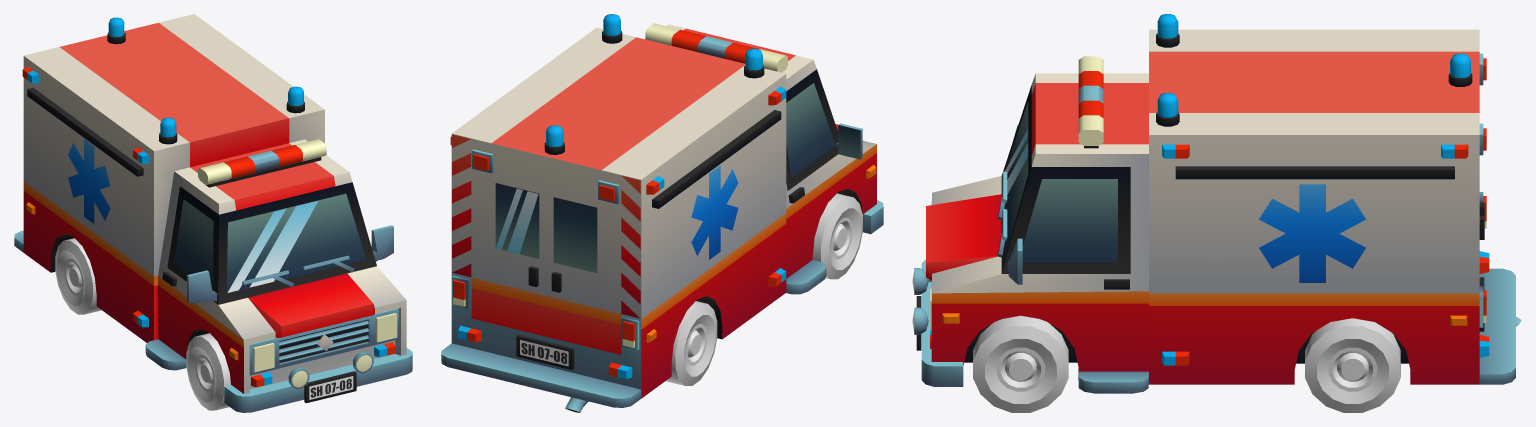
3 views of the same model, side by side, from view 1: azimuth 30°, elevation 25°; view 2: azimuth 150°, elevation 25°; view 3: azimuth 270°, elevation 25° (orthographic). The views are drawn at different scales.
Visible parts, largest first — view 1: SHTV_Model_Car_Ambulance_SHTV_Material_Cars_Red_0, SHTV_Model_Wheel_Ambulance_FR_SHTV_Material_Cars_Gray_0, SHTV_Model_Wheel_Ambulance_BR_SHTV_Material_Cars_Gray_0; view 2: SHTV_Model_Car_Ambulance_SHTV_Material_Cars_Red_0, SHTV_Model_Wheel_Ambulance_FR_SHTV_Material_Cars_Gray_0, SHTV_Model_Wheel_Ambulance_BR_SHTV_Material_Cars_Gray_0; view 3: SHTV_Model_Car_Ambulance_SHTV_Material_Cars_Red_0, SHTV_Model_Wheel_Ambulance_FL_SHTV_Material_Cars_Gray_0, SHTV_Model_Wheel_Ambulance_BL_SHTV_Material_Cars_Gray_0.
Boxes of the visible parts, x1,y1,x2,y2 form: SHTV_Model_Car_Ambulance_SHTV_Material_Cars_Red_0: (14, 14, 412, 412); SHTV_Model_Wheel_Ambulance_FR_SHTV_Material_Cars_Gray_0: (186, 333, 230, 410); SHTV_Model_Wheel_Ambulance_BR_SHTV_Material_Cars_Gray_0: (55, 238, 101, 314); SHTV_Model_Car_Ambulance_SHTV_Material_Cars_Red_0: (441, 14, 883, 412); SHTV_Model_Wheel_Ambulance_FR_SHTV_Material_Cars_Gray_0: (812, 193, 862, 279); SHTV_Model_Wheel_Ambulance_BR_SHTV_Material_Cars_Gray_0: (665, 301, 717, 385); SHTV_Model_Car_Ambulance_SHTV_Material_Cars_Red_0: (912, 14, 1521, 393); SHTV_Model_Wheel_Ambulance_FL_SHTV_Material_Cars_Gray_0: (973, 315, 1068, 412); SHTV_Model_Wheel_Ambulance_BL_SHTV_Material_Cars_Gray_0: (1305, 318, 1400, 412).
Size of the model in its own units: 2.41 by 2.71 by 4.9.
